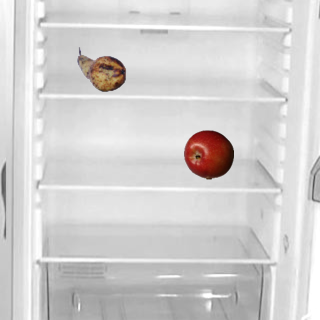Apple Braeburn: (183, 129, 233, 179)
Pear Abate: (76, 44, 126, 94)
